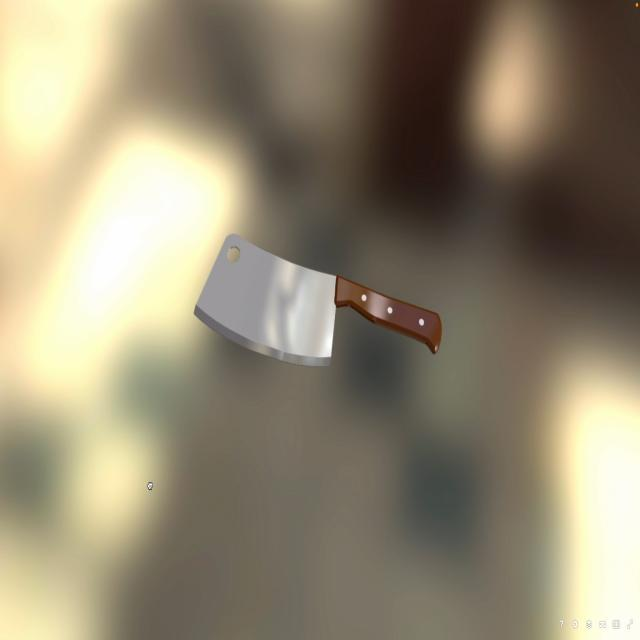cleaver: (194, 235, 448, 375)
